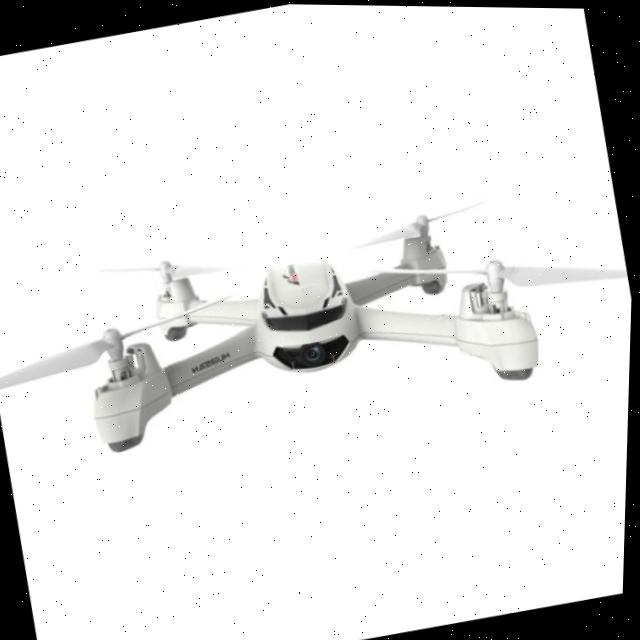drones: (0, 131, 637, 516)
